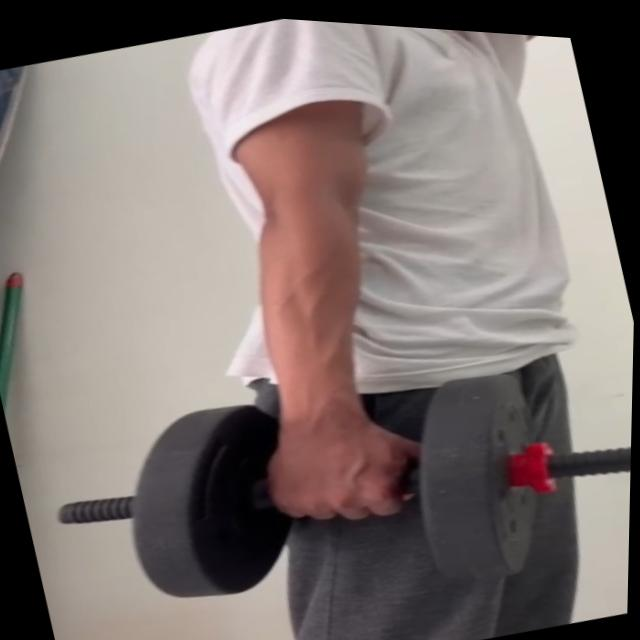hammer: (99, 321, 577, 640)
